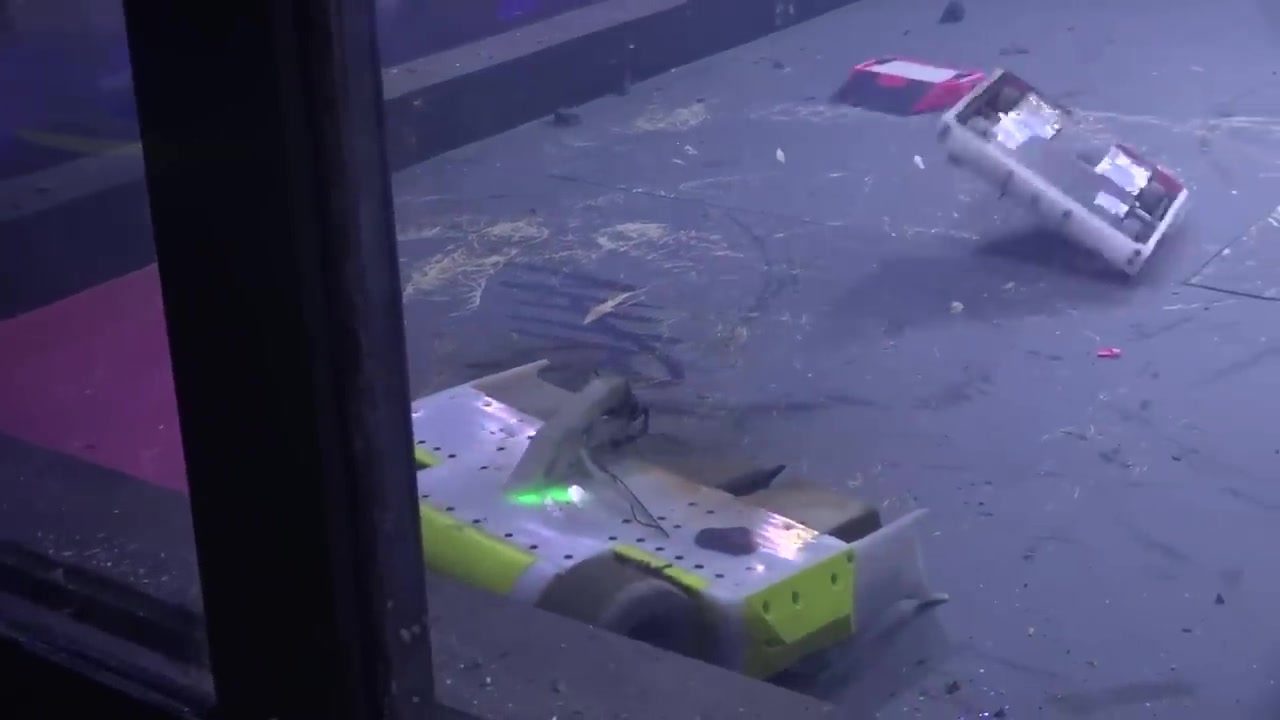combatbot: (410, 350, 951, 674), (926, 67, 1197, 291)
debris: (543, 104, 586, 131)
minibot: (840, 55, 988, 117)
